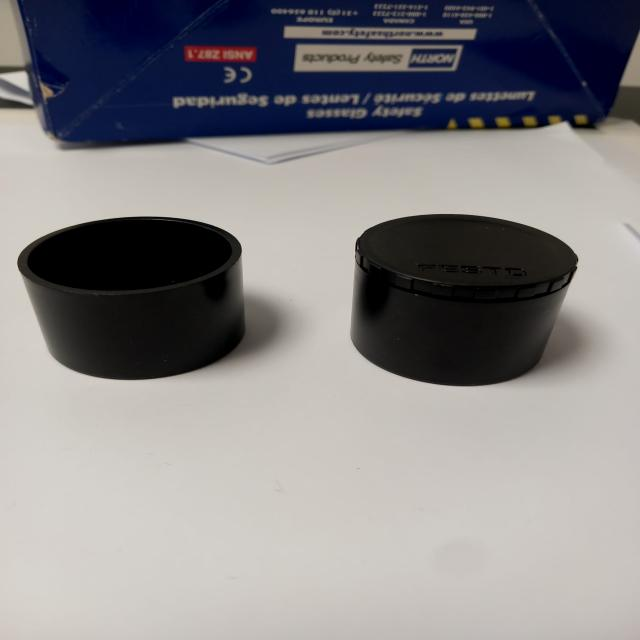NoLid: (0, 195, 283, 392)
Workpiece: (335, 206, 584, 397)
